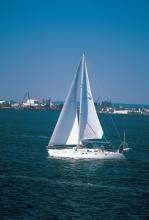fanchuan: (41, 59, 144, 164)
